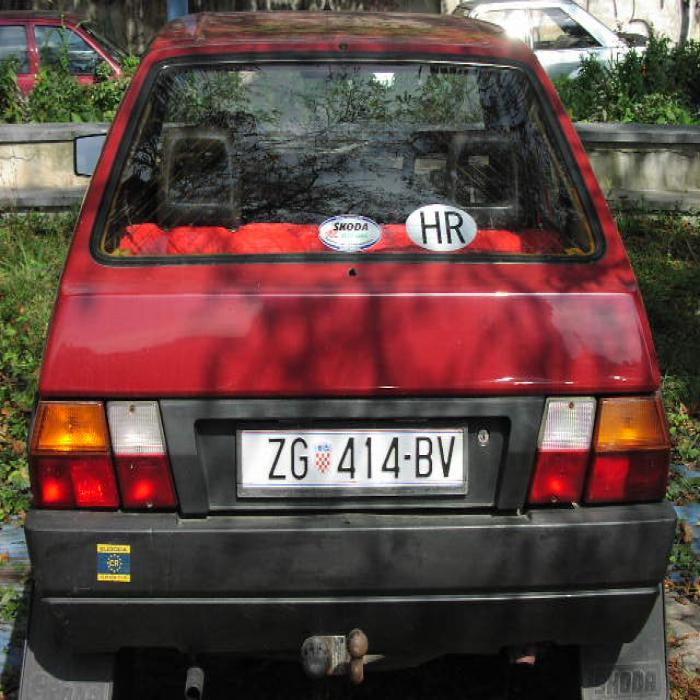number_plate: (238, 430, 459, 483)
